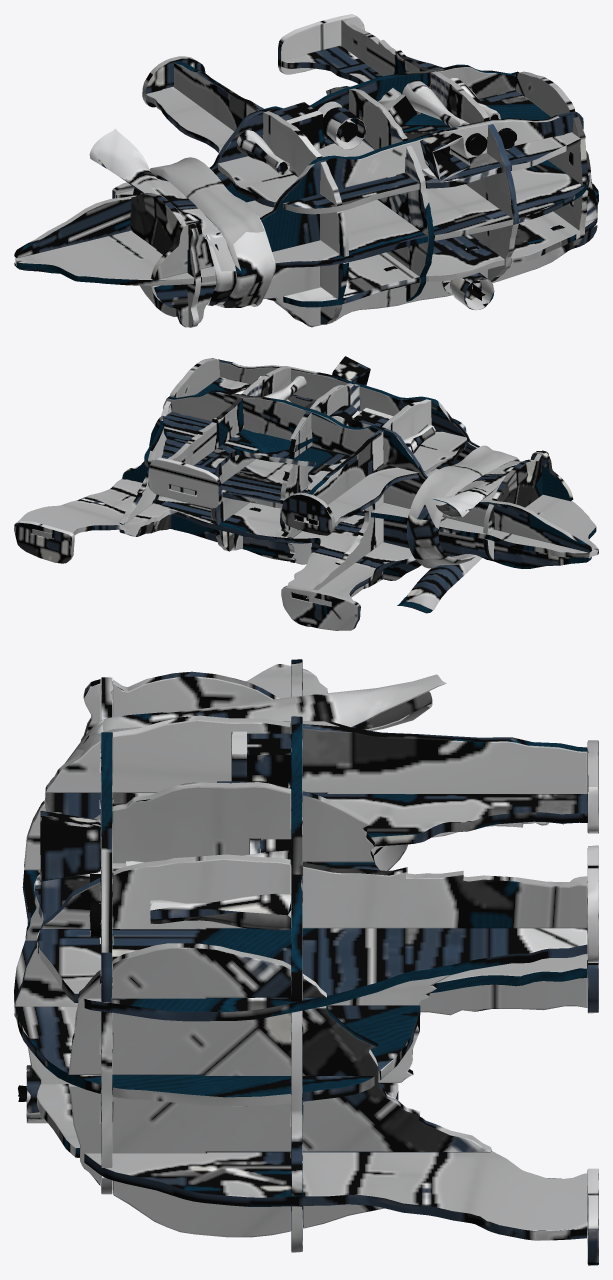
File: raw_model.glb
3 views of the same model, one above another, from view 1: azimuth 30°, elevation 25°; view 2: azimuth 150°, elevation 25°; view 3: azimuth 270°, elevation 25° (orthographic). The views are drawn at different scales.
Visible parts, largest first — view 1: raw_model.049; view 2: raw_model.049; view 3: raw_model.049.
Part boxes in pixels (<box>): raw_model.049: <box>14,14,598,327</box>; raw_model.049: <box>14,356,598,630</box>; raw_model.049: <box>14,659,598,1265</box>.
Size of the model in its own units: 1.55 by 0.4765 by 0.7846.
1 material, 1 textured.
